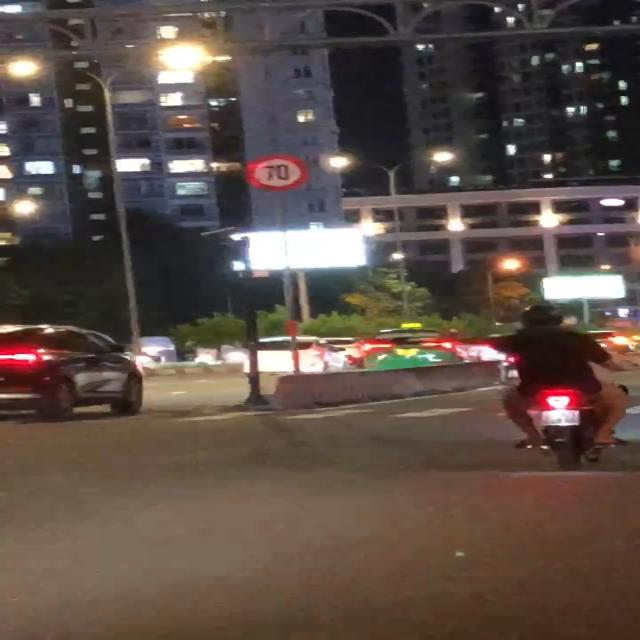Bien bao toc do toi da cho phep: (239, 151, 313, 193)
